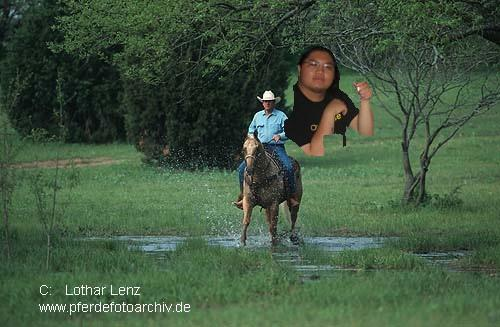tampered: (285, 47, 374, 156)
